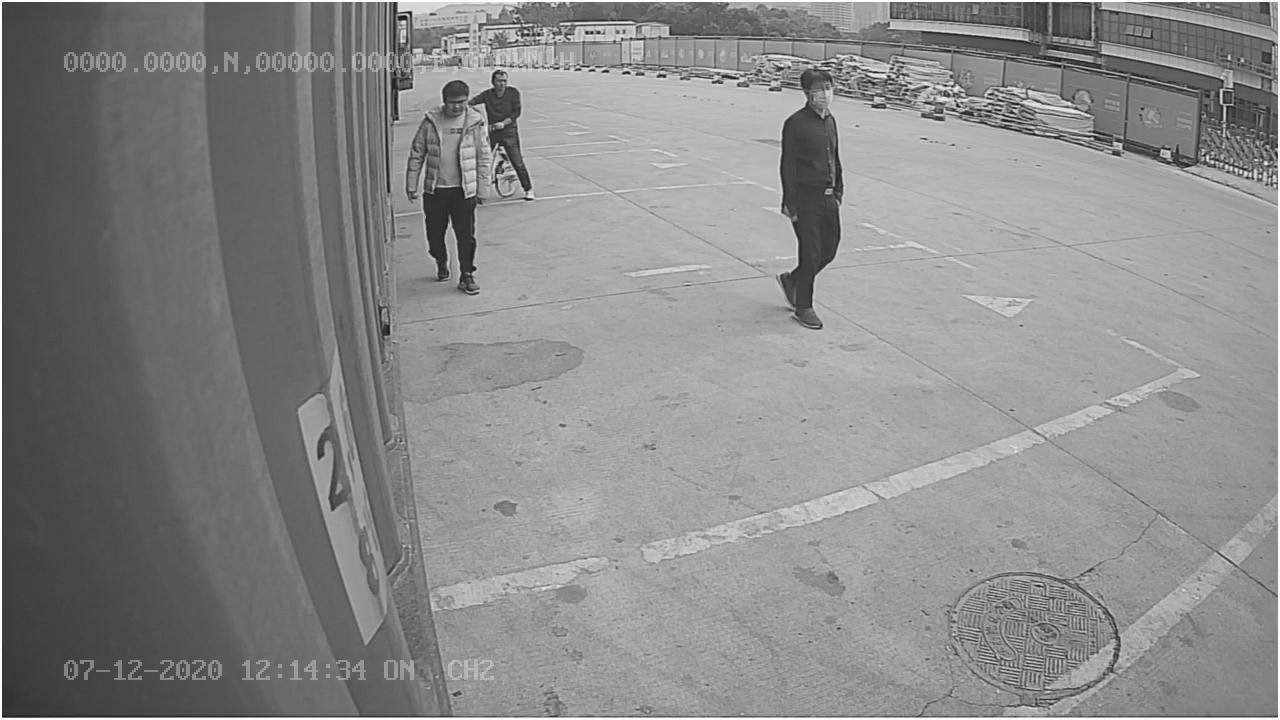person: (770, 70, 856, 333)
